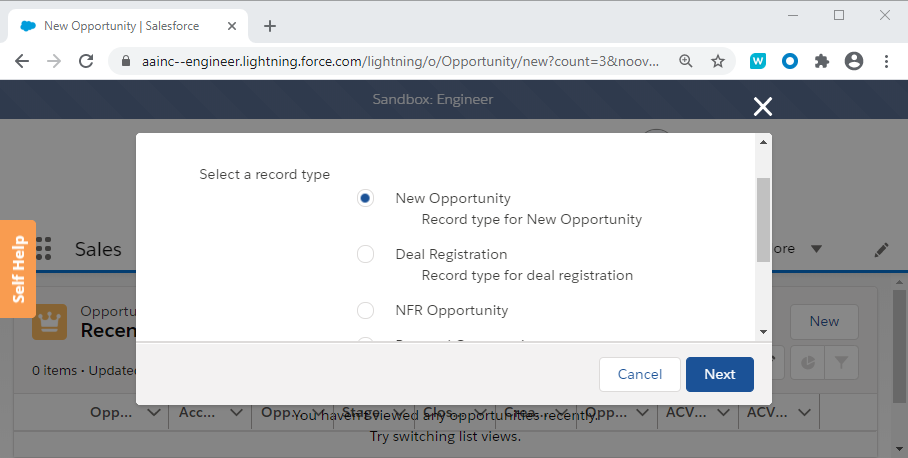ACTIVE_WINDOW: (135, 132, 772, 405)
BUTTON: (598, 356, 680, 390), (685, 355, 753, 391), (790, 303, 858, 338)
DROPDOWN_HANDLE: (788, 394, 817, 426), (712, 403, 736, 427), (805, 238, 827, 261)
IMAGEBUTTON: (825, 344, 858, 378), (791, 344, 823, 378), (868, 236, 898, 264), (748, 88, 775, 116), (217, 10, 245, 36), (840, 48, 866, 73), (707, 48, 732, 73), (41, 47, 65, 72), (73, 47, 97, 72), (777, 48, 801, 73), (9, 48, 33, 72), (809, 49, 833, 73), (745, 48, 769, 72), (875, 49, 899, 73), (675, 50, 694, 69), (831, 6, 846, 21), (785, 8, 799, 22)
RADIOBUTTON_CLICKED: (356, 189, 374, 206)
RADIOBUTTON_UNCLICKED: (356, 244, 374, 262), (356, 301, 374, 319)
SCROLLBAR_VERTICAL: (755, 132, 771, 339), (891, 273, 906, 455)
SCROLLBAR_VERTICAL_BAR: (893, 289, 906, 397), (756, 176, 770, 260)
SCROLLBAR_VERTICAL_HANDLE: (755, 132, 771, 149), (755, 323, 771, 339), (891, 273, 906, 289), (891, 439, 906, 455)
